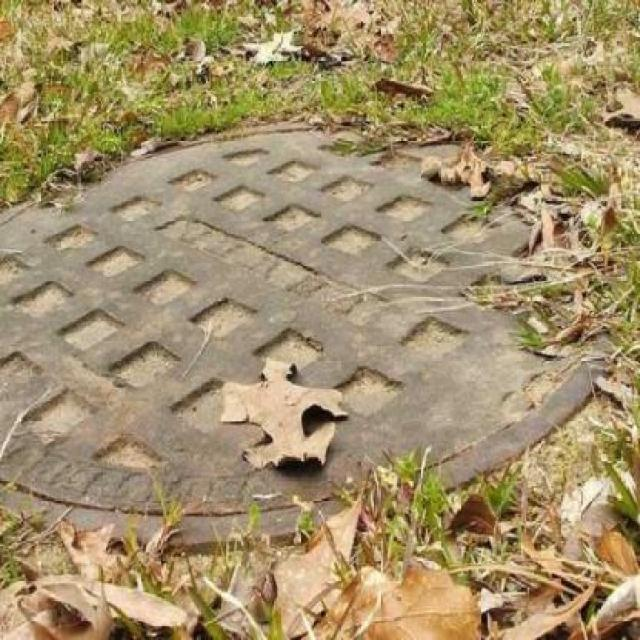Manhole: (0, 113, 631, 550)
